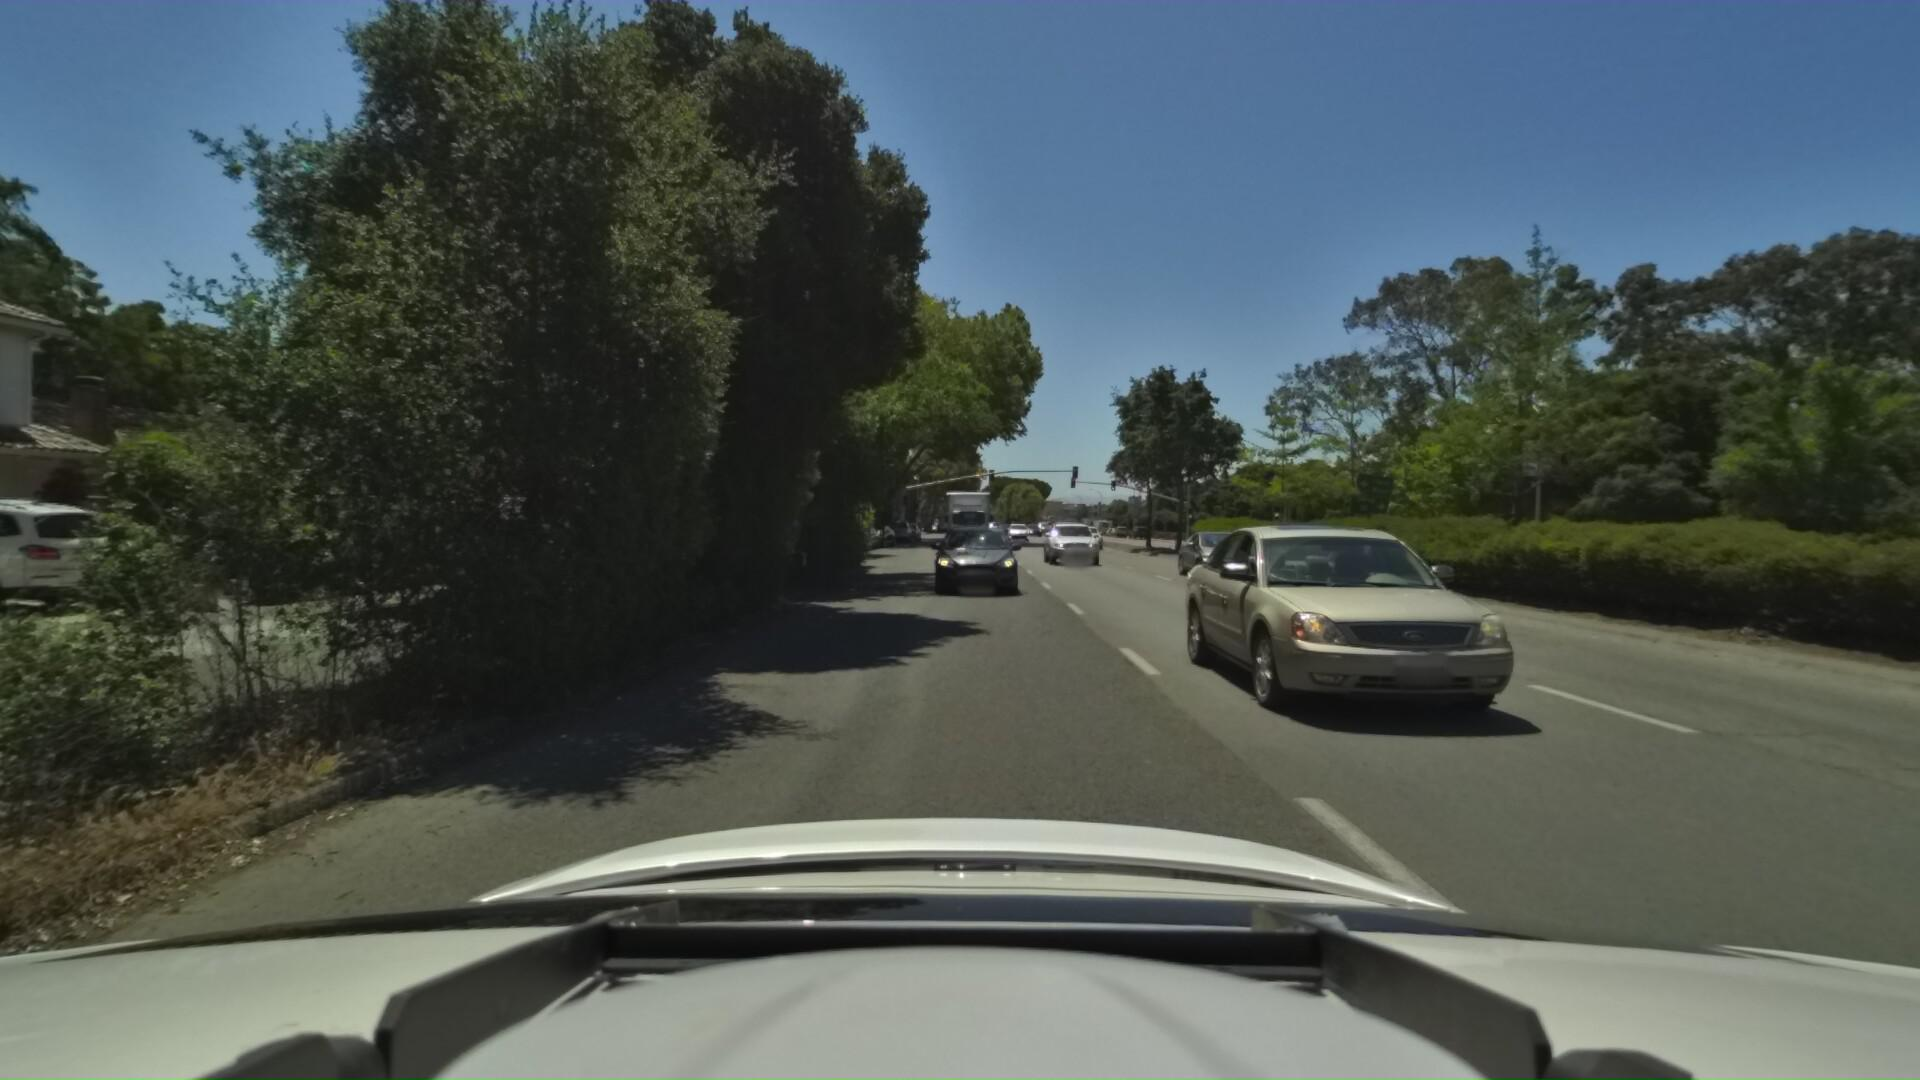car: (1142, 506, 1470, 708), (0, 489, 162, 618), (928, 522, 1018, 600), (1164, 526, 1255, 582), (1036, 516, 1095, 563), (852, 522, 897, 547), (1077, 524, 1116, 549), (0, 513, 5, 637), (882, 520, 911, 542), (893, 520, 920, 541), (1004, 521, 1029, 542)
truck: (942, 477, 994, 541)
